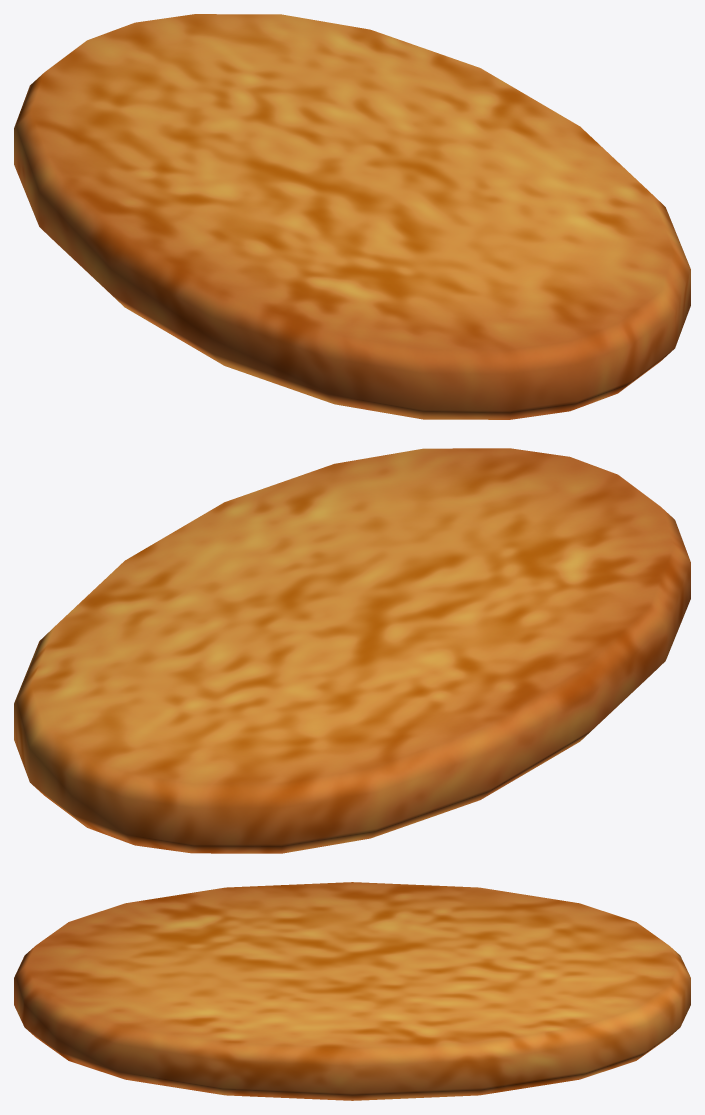
Rendered from Hashbrown.fbx.
The picture shows the model from 3 angles, top to bottom: view 1: azimuth 30°, elevation 25°; view 2: azimuth 150°, elevation 25°; view 3: azimuth 270°, elevation 25°; orthographic projection. The views are drawn at different scales.
Visible parts, largest first — view 1: Hashbrown; view 2: Hashbrown; view 3: Hashbrown.
Boxes of the visible parts, left/top/right/bottom form: Hashbrown: left=14, top=14, right=690, bottom=419; Hashbrown: left=14, top=448, right=690, bottom=853; Hashbrown: left=14, top=882, right=690, bottom=1100.
Bounding box in the file's own units: 51.22 × 7.08 × 82.98.
